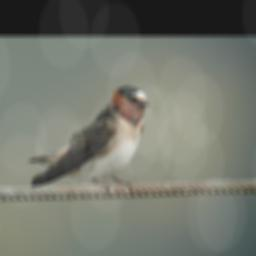Swallow: (26, 81, 154, 194)
